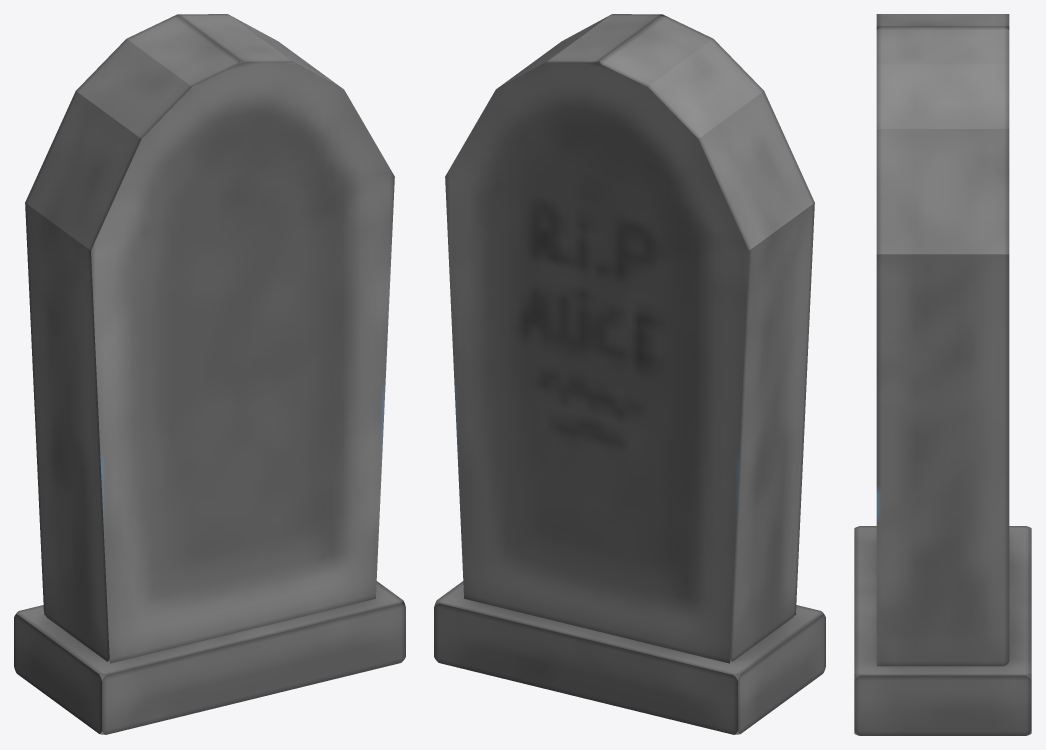
Rendered from AliceGrave by Cherry.fbx.
3 renders of one model, left to right at view 1: azimuth 30°, elevation 25°; view 2: azimuth 150°, elevation 25°; view 3: azimuth 270°, elevation 25°, orthographic.
Parts seen in each view (by area): view 1: mesh_1, mesh; view 2: mesh_1, mesh; view 3: mesh_1, mesh.
Part boxes in pixels (x1,y1,x2,y2): mesh_1: (25,14,394,663); mesh: (14,581,405,734); mesh_1: (445,14,814,663); mesh: (434,581,825,734); mesh_1: (876,14,1009,666); mesh: (854,526,1031,735).
Size of the model in its own units: 100 by 198 by 50.
1 material, 1 textured.
